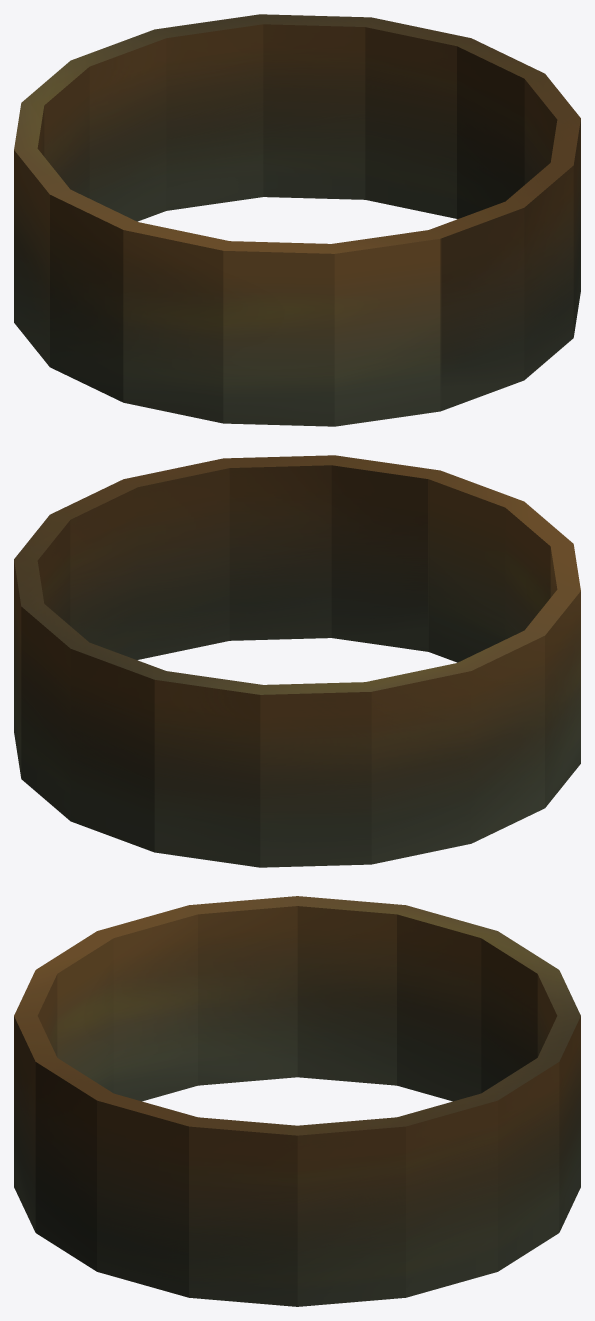
Rendered from zango.obj.
3 views of the same model, one above another, from view 1: azimuth 30°, elevation 25°; view 2: azimuth 150°, elevation 25°; view 3: azimuth 270°, elevation 25° (orthographic).
Visible parts, largest first — view 1: 円柱_円柱.008; view 2: 円柱_円柱.008; view 3: 円柱_円柱.008.
Part boxes in pixels (bbox=[...]): 円柱_円柱.008: bbox=[14, 14, 580, 426]; 円柱_円柱.008: bbox=[14, 455, 580, 867]; 円柱_円柱.008: bbox=[14, 896, 580, 1306].
Size of the model in its own units: 3 by 1 by 3.
1 material, 1 textured.
